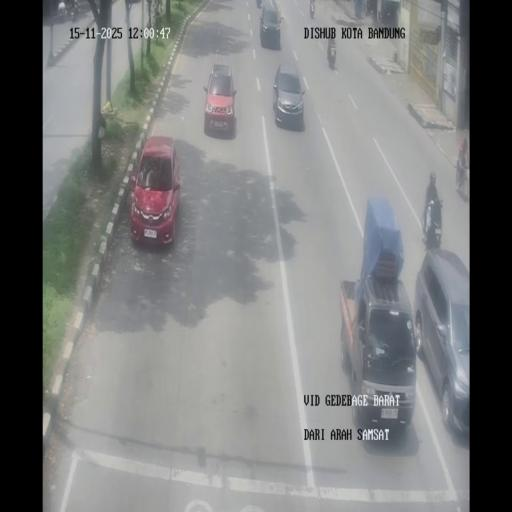3: (339, 202, 416, 435), (381, 0, 400, 22)
car: (414, 252, 470, 439), (130, 136, 181, 246), (203, 62, 237, 138), (273, 62, 306, 130), (258, 2, 282, 49)
truck: (422, 195, 442, 246), (456, 158, 470, 200), (328, 44, 336, 69), (57, 4, 67, 22), (69, 1, 77, 22), (309, 0, 315, 18), (378, 9, 382, 23)
